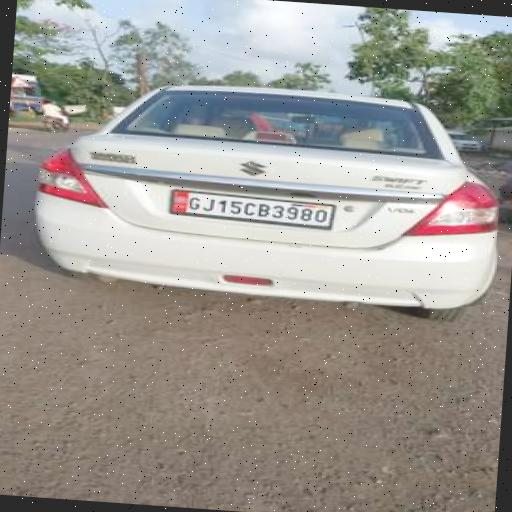license_plate`: (168, 188, 334, 226)
